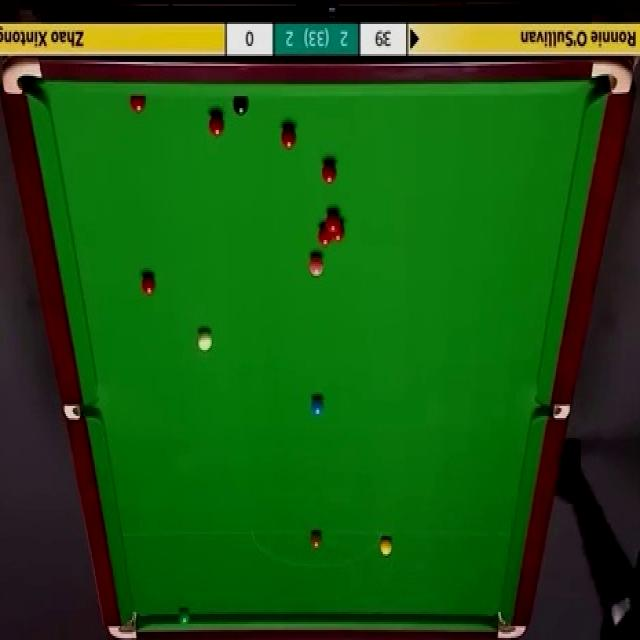black-ball: (232, 95, 248, 117)
blue-ball: (310, 397, 326, 417)
brown-ball: (310, 532, 322, 552)
green-ball: (180, 610, 190, 628)
pink-ball: (308, 253, 323, 279)
red-ball: (320, 160, 337, 189), (280, 123, 296, 151), (208, 110, 225, 136), (142, 271, 156, 296), (129, 97, 148, 115), (332, 218, 346, 242), (318, 222, 331, 246), (324, 210, 340, 229)
white-ball: (197, 328, 213, 355)
yellow-ball: (381, 538, 393, 554)
